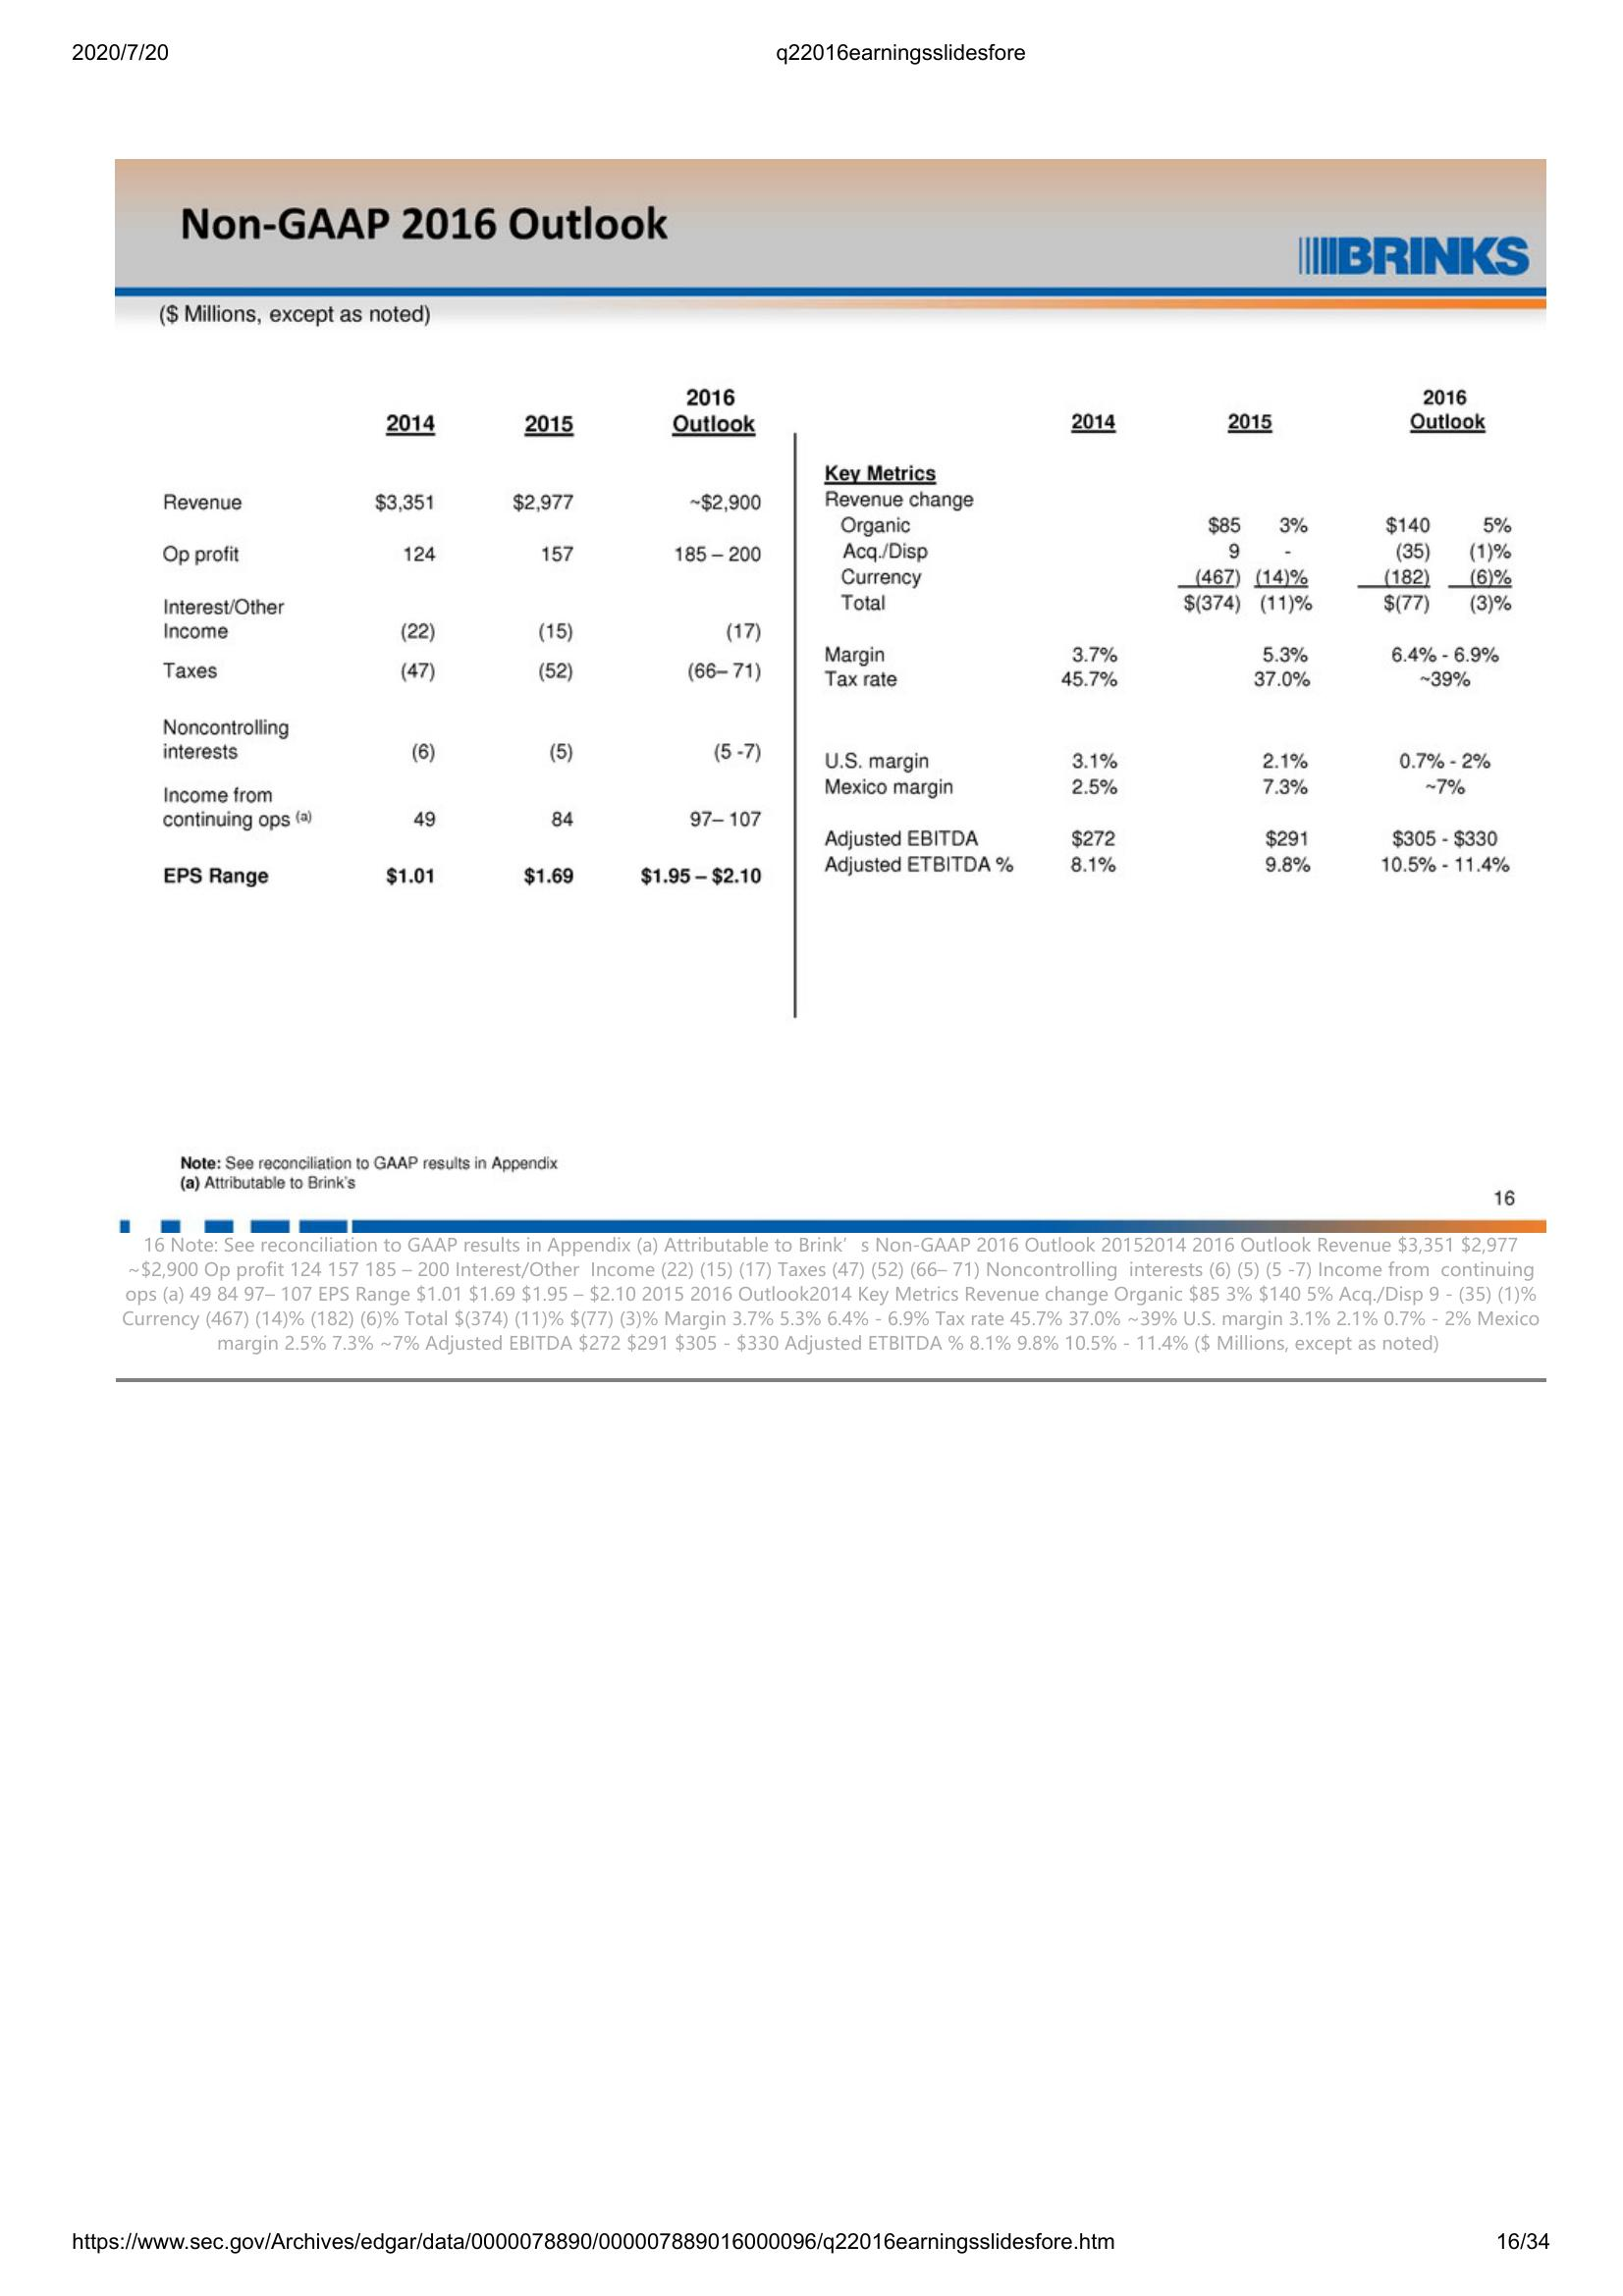table: (820, 381, 1528, 899), (144, 377, 783, 883)
